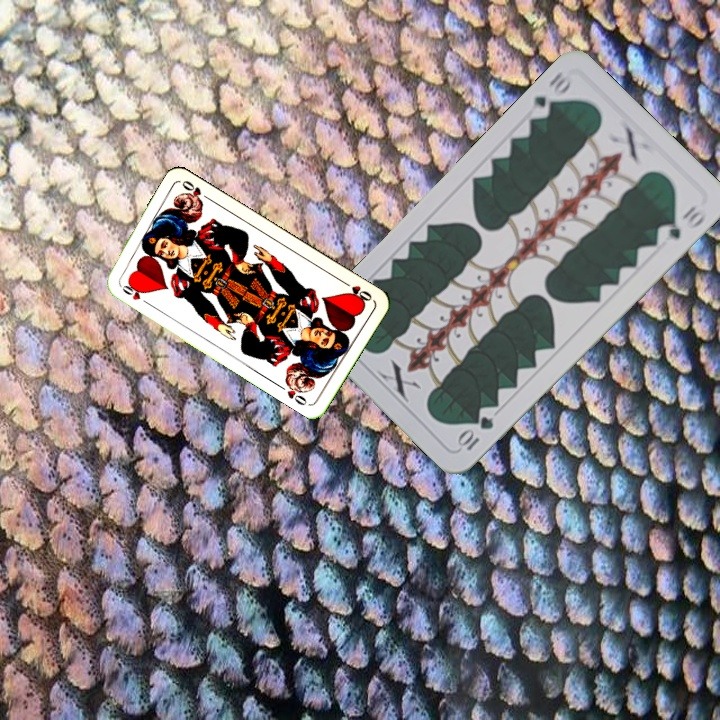G10: (525, 67, 574, 122), (454, 412, 497, 453)
HO: (339, 277, 375, 306), (115, 279, 147, 303)
